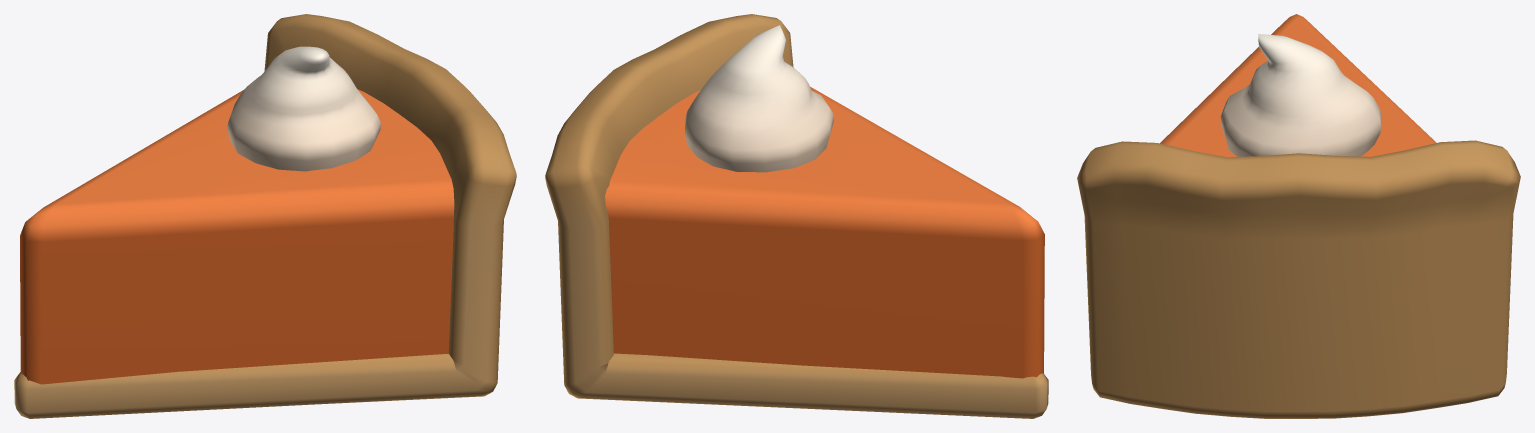
The model's file is pie.fbx.
3 renders of one model, left to right at view 1: azimuth 30°, elevation 25°; view 2: azimuth 150°, elevation 25°; view 3: azimuth 270°, elevation 25°, orthographic. The views are drawn at different scales.
Parts seen in each view (by area): view 1: pie; view 2: pie; view 3: pie.
Part boxes in pixels (<box>): pie: <box>14,14,516,418</box>; pie: <box>545,14,1048,418</box>; pie: <box>1077,14,1520,418</box>.
Bounding box in the file's own units: 1.25 × 0.8524 × 1.06.
